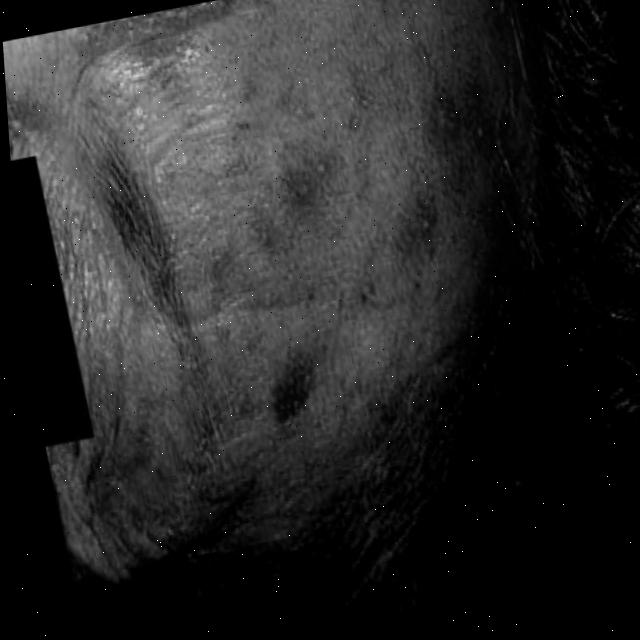Rosacea: (73, 0, 521, 427)
